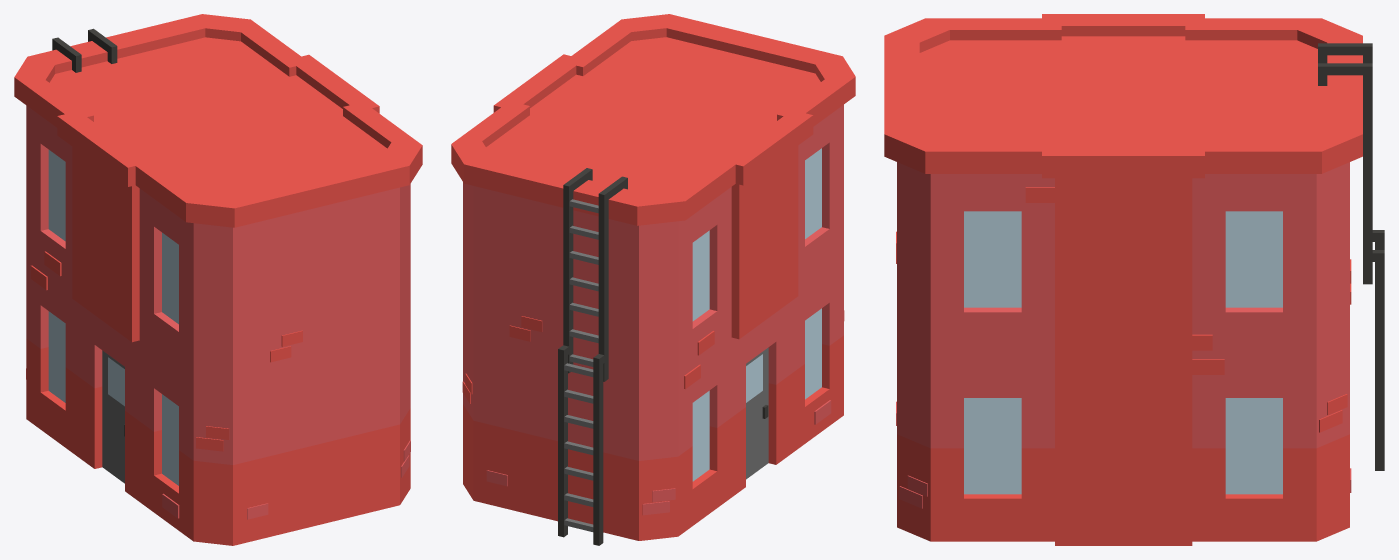
Rendered from Building_9.fbx.
3 views of the same model, side by side, from view 1: azimuth 30°, elevation 25°; view 2: azimuth 150°, elevation 25°; view 3: azimuth 270°, elevation 25° (orthographic). The views are drawn at different scales.
Parts seen in each view (by area): view 1: Building_9; view 2: Building_9; view 3: Building_9.
Part boxes in pixels (box(x1,y1,x2,y2)): Building_9: box(14, 14, 422, 545); Building_9: box(451, 14, 855, 545); Building_9: box(884, 14, 1384, 545).
Size of the model in its own units: 13.05 by 17.34 by 19.45.
1 material, 1 textured.
